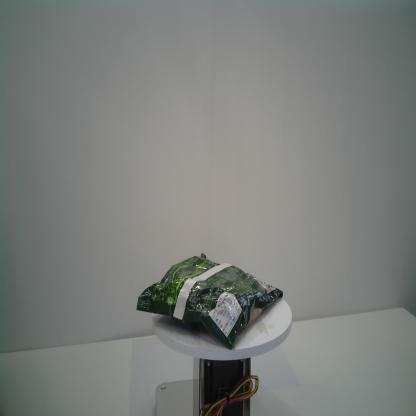Instant Noodles: (136, 252, 283, 350)
